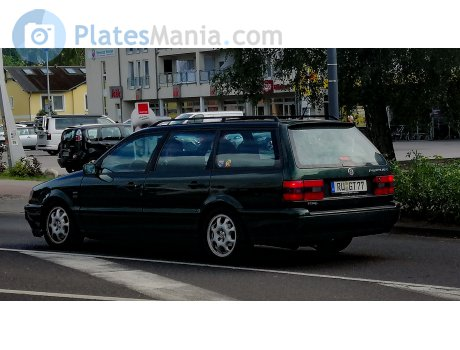License Plates: (333, 180, 367, 190)
